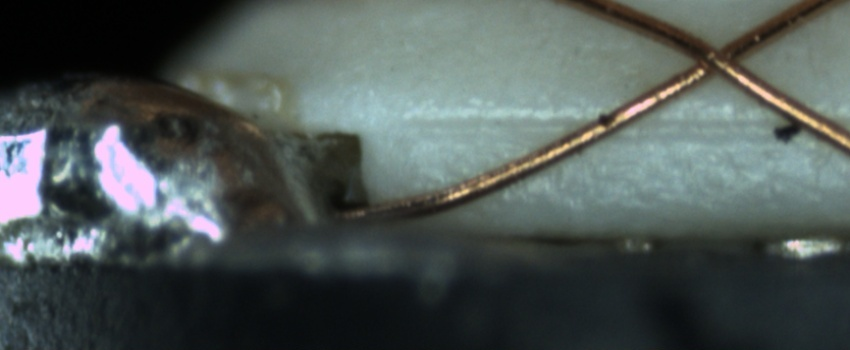CL: (664, 19, 764, 93)
DL: (395, 91, 850, 151)
